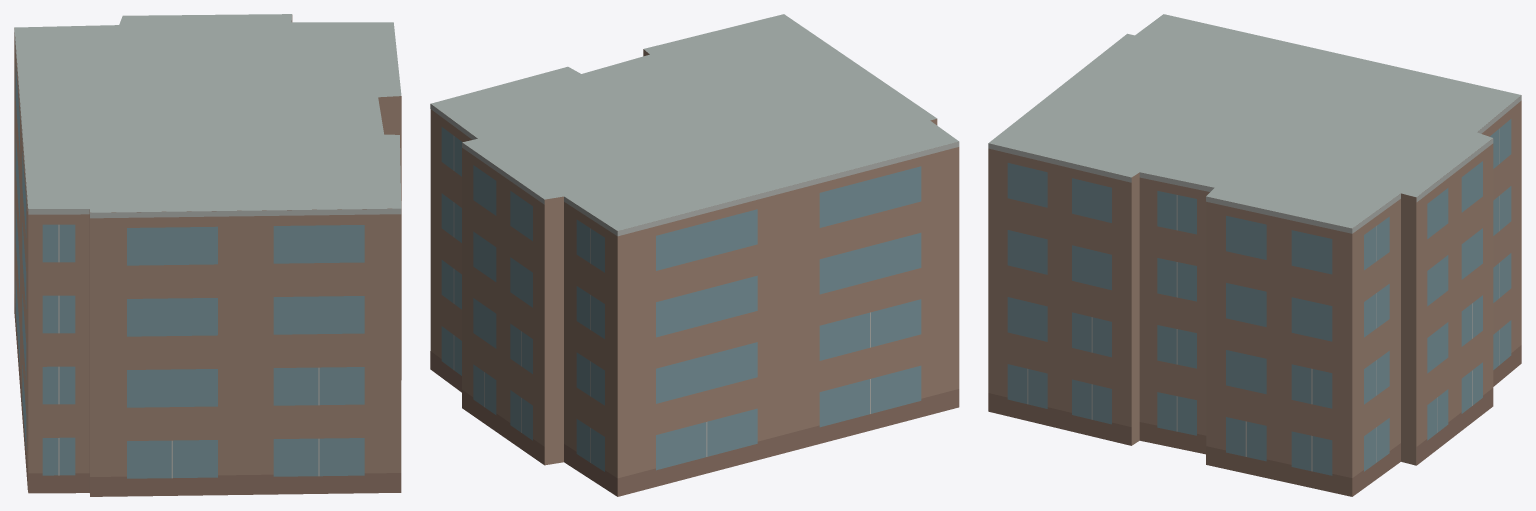
Rendered from survey-upis-32653107.glb.
3 renders of one model, left to right at view 1: azimuth 30°, elevation 25°; view 2: azimuth 150°, elevation 25°; view 3: azimuth 270°, elevation 25°, orthographic. The views are drawn at different scales.
Visible parts, largest first — view 1: survey-upis-32653107.tmp; view 2: survey-upis-32653107.tmp; view 3: survey-upis-32653107.tmp.
Boxes of the visible parts, x1=… form: survey-upis-32653107.tmp: x1=14, y1=14, x2=401, y2=496; survey-upis-32653107.tmp: x1=430, y1=14, x2=959, y2=496; survey-upis-32653107.tmp: x1=988, y1=14, x2=1521, y2=496.
Bounding box in the file's own units: 21.27 × 12.4 × 22.34.
